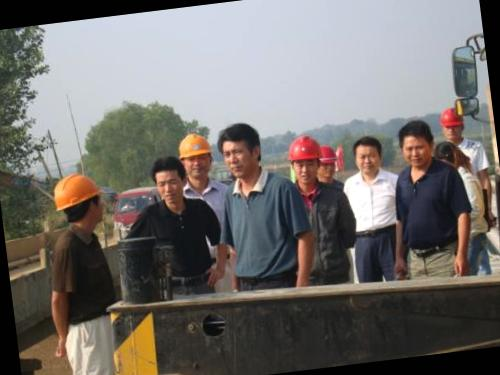no_helmet: (214, 116, 266, 186), (146, 150, 191, 213), (393, 112, 438, 174), (346, 130, 386, 180)
